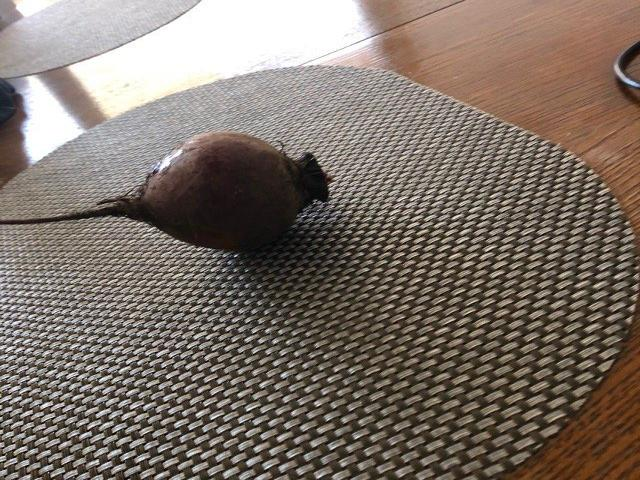beet: (3, 132, 329, 248)
